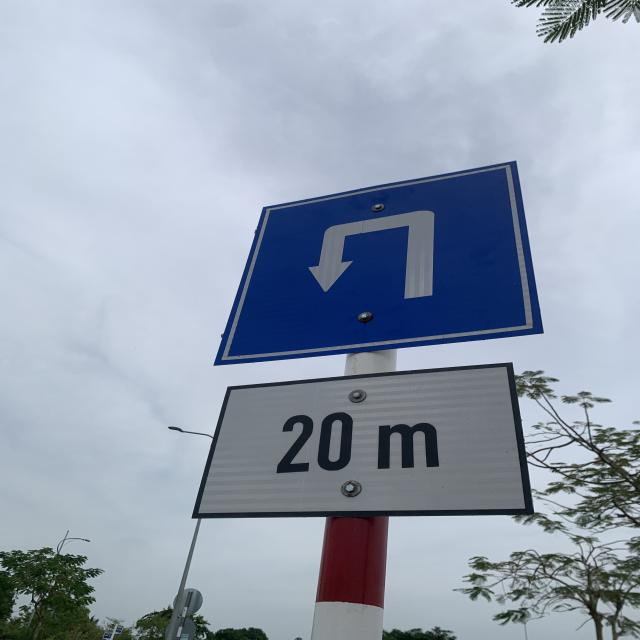Den_Giao_Thong: (210, 160, 553, 368)
